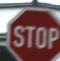Stop sign: (0, 0, 59, 60)
